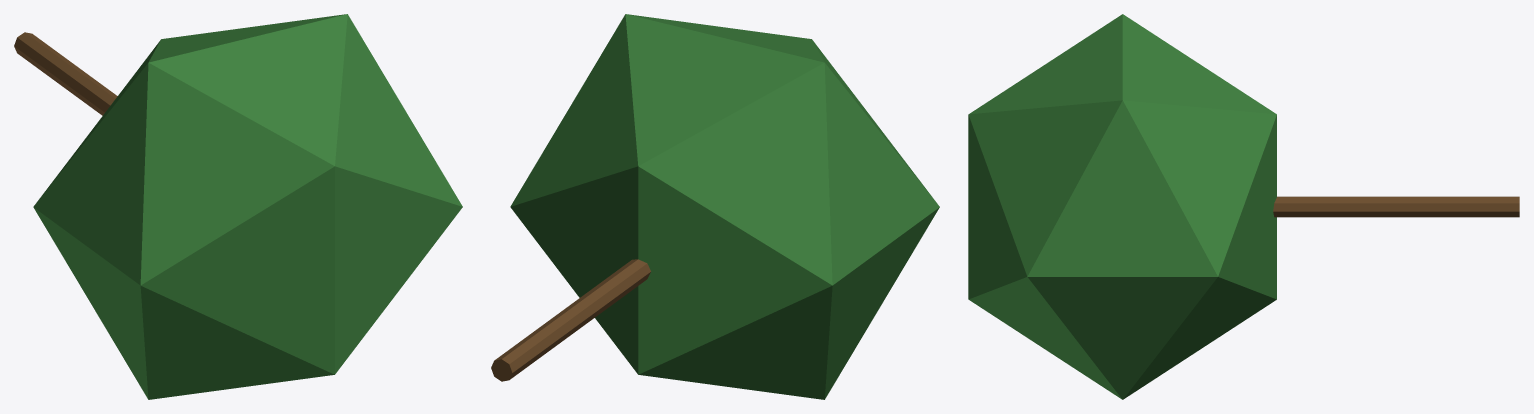
File: tree_oak.obj
The picture shows the model from 3 angles, left to right: view 1: azimuth 30°, elevation 25°; view 2: azimuth 150°, elevation 25°; view 3: azimuth 270°, elevation 25°; orthographic projection. The views are drawn at different scales.
Parts seen in each view (by area): view 1: tree_oak_crown, tree_oak_trunk; view 2: tree_oak_crown, tree_oak_trunk; view 3: tree_oak_crown, tree_oak_trunk.
Part boxes in pixels (x1,y1,x2,y2): tree_oak_crown: (33, 14, 462, 399); tree_oak_trunk: (14, 32, 117, 115); tree_oak_crown: (510, 14, 939, 399); tree_oak_trunk: (491, 259, 650, 381); tree_oak_crown: (968, 14, 1276, 399); tree_oak_trunk: (1273, 196, 1519, 217).
Bounding box in the file's own units: 6 × 6 × 10.
